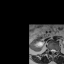CCS_normal: (52, 47, 53, 55)
LFS_normal: (55, 48, 57, 53)
LLS_normal: (53, 47, 55, 54)
RFS_normal: (49, 48, 50, 52)
RLS_normal: (50, 48, 52, 53)
